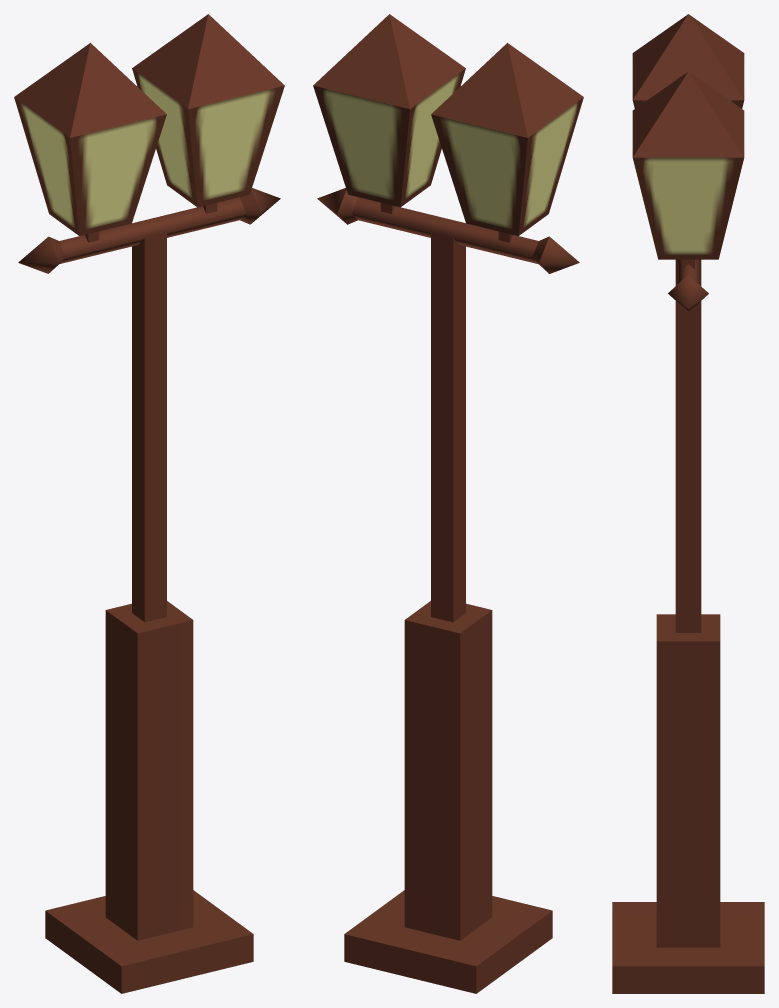
The model's file is building_Lamp01.FBX.
The picture shows the model from 3 angles, left to right: view 1: azimuth 30°, elevation 25°; view 2: azimuth 150°, elevation 25°; view 3: azimuth 270°, elevation 25°; orthographic projection.
Visible parts, largest first — view 1: building_Lamp01; view 2: building_Lamp01; view 3: building_Lamp01.
Boxes of the visible parts, x1,y1,x2,y2 form: building_Lamp01: (14,14,284,993); building_Lamp01: (313,14,583,993); building_Lamp01: (612,14,764,993).
Bounding box in the file's own units: 65.86 × 220 × 33.07.
